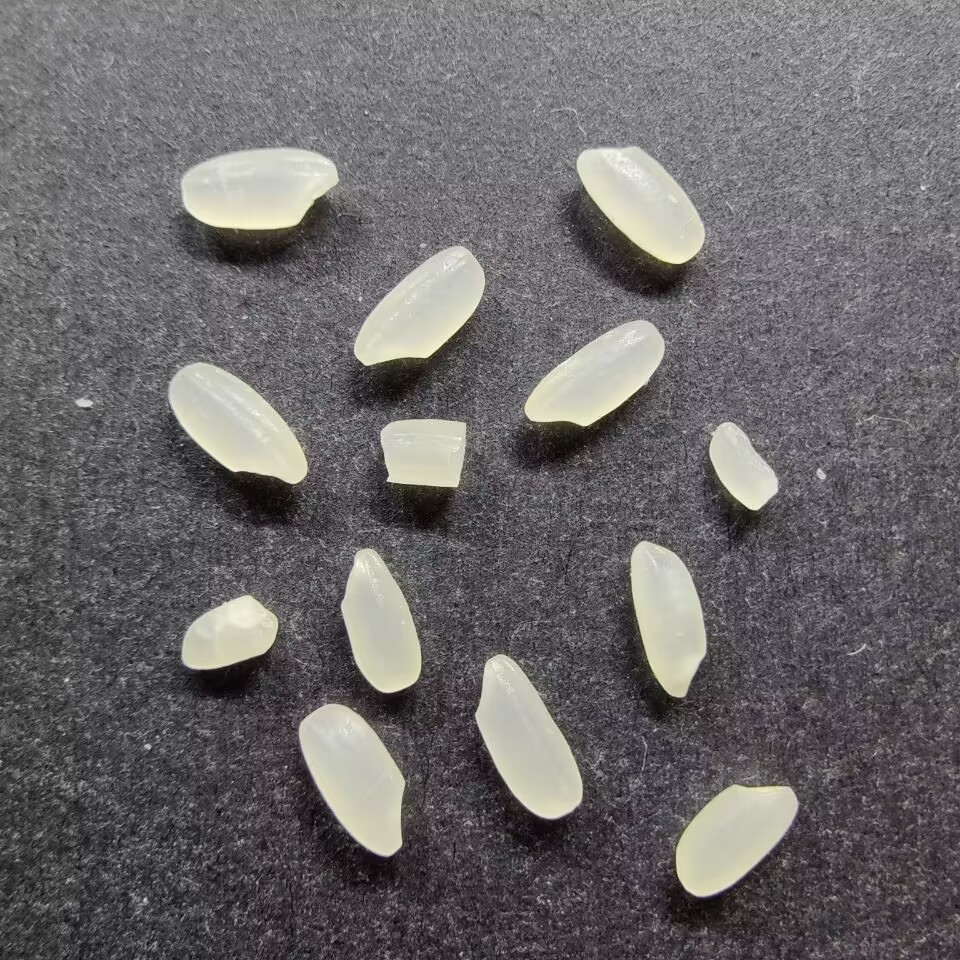broken: (180, 593, 279, 670), (706, 420, 785, 511), (377, 416, 468, 491)
rice: (469, 650, 585, 821), (165, 361, 308, 487), (296, 702, 409, 858), (351, 243, 489, 367), (521, 316, 666, 428), (574, 144, 707, 264), (673, 781, 802, 899), (180, 145, 338, 231), (627, 538, 710, 700), (336, 545, 424, 694)
